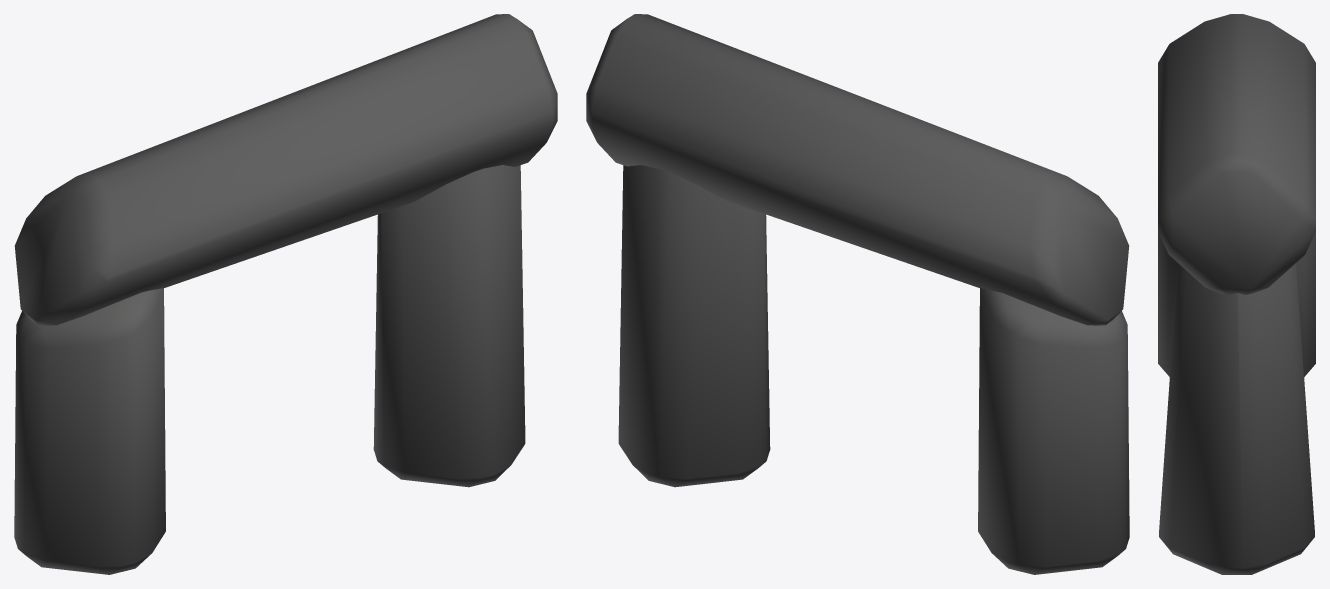
The model's file is StoneBridge.fbx.
3 views of the same model, side by side, from view 1: azimuth 30°, elevation 25°; view 2: azimuth 150°, elevation 25°; view 3: azimuth 270°, elevation 25° (orthographic).
Parts seen in each view (by area): view 1: Cube.195; view 2: Cube.195; view 3: Cube.195.
Part boxes in pixels (x1,y1,x2,y2): Cube.195: [14, 14, 557, 574]; Cube.195: [586, 14, 1129, 574]; Cube.195: [1158, 14, 1315, 574].
Bounding box in the file's own units: 3.57 × 2.9 × 0.9809.
Materials: 1 (1 with a texture image).
